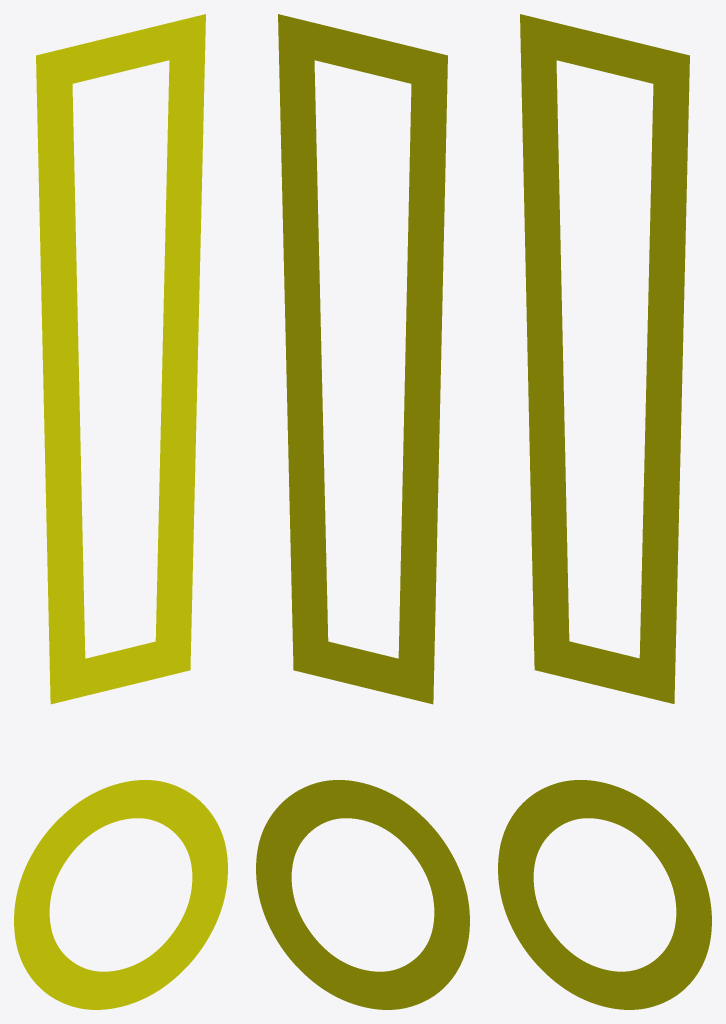
Rendered from WHITE EXCLAMATION MARK ORNAMENT.glb.
3 renders of one model, left to right at view 1: azimuth 30°, elevation 25°; view 2: azimuth 150°, elevation 25°; view 3: azimuth 330°, elevation 25°, orthographic.
Visible parts, largest first — view 1: Text.858; view 2: Text.858; view 3: Text.858.
Boxes of the visible parts, x1,y1,x2,y2 form: Text.858: (14,14,227,1009); Text.858: (256,14,469,1009); Text.858: (498,14,711,1009).
Size of the model in its own units: 0.234 by 1.02 by 3.6e-06.
